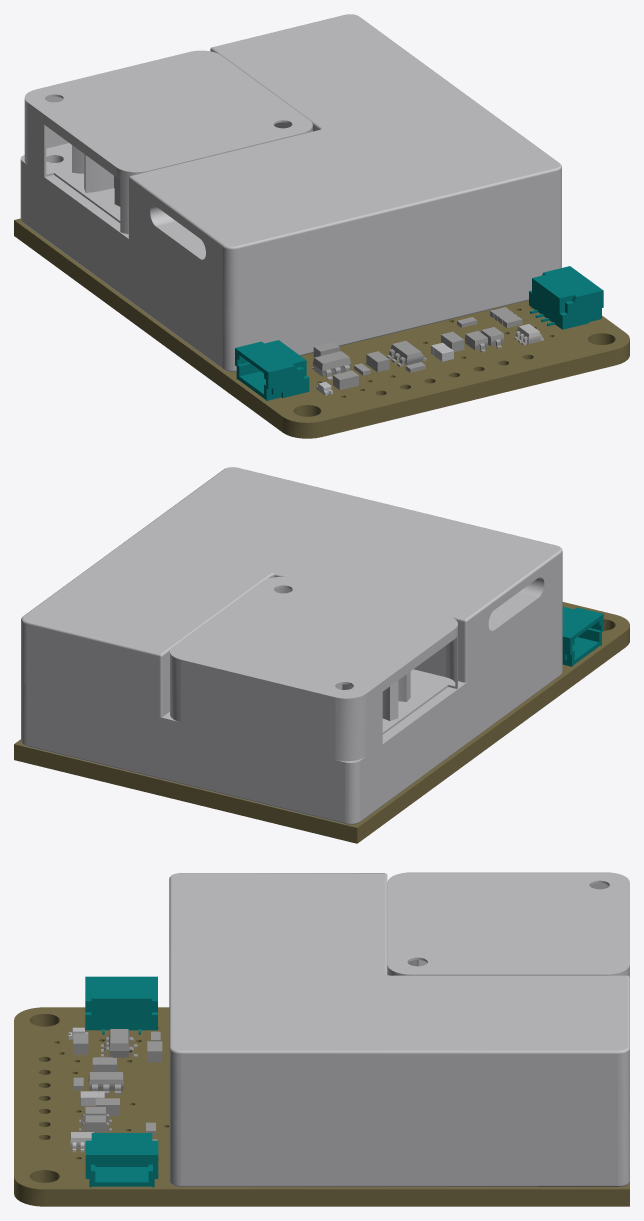
The model's file is ada-4632.glb.
3 views of the same model, one above another, from view 1: azimuth 30°, elevation 25°; view 2: azimuth 150°, elevation 25°; view 3: azimuth 270°, elevation 25° (orthographic). The views are drawn at different scales.
Parts seen in each view (by area): view 1: 0.5833333333333334_0.5833333333333334_0.5833333333333334_0.8, 0.16666666666666666_0.16666666666666666_0.08333333333333333_, 0_0.25_0.25_0, 0.3333333333333333_0.3333333333333333_0.3333333333333333_0; view 2: 0.5833333333333334_0.5833333333333334_0.5833333333333334_0.8, 0.16666666666666666_0.16666666666666666_0.08333333333333333_, 0_0.25_0.25_0; view 3: 0.5833333333333334_0.5833333333333334_0.5833333333333334_0.8, 0.16666666666666666_0.16666666666666666_0.08333333333333333_, 0_0.25_0.25_0, 0.3333333333333333_0.3333333333333333_0.3333333333333333_0.
Part boxes in pixels (x1=…): 0.5833333333333334_0.5833333333333334_0.5833333333333334_0.8: x1=20, y1=14, x2=561, y2=395; 0.16666666666666666_0.16666666666666666_0.08333333333333333_: x1=14, y1=218, x2=629, y2=438; 0_0.25_0.25_0: x1=235, y1=266, x2=603, y2=400; 0.3333333333333333_0.3333333333333333_0.3333333333333333_0: x1=312, y1=307, x2=522, y2=389; 0.5833333333333334_0.5833333333333334_0.5833333333333334_0.8: x1=21, y1=467, x2=562, y2=824; 0.16666666666666666_0.16666666666666666_0.08333333333333333_: x1=14, y1=602, x2=629, y2=843; 0_0.25_0.25_0: x1=562, y1=606, x2=603, y2=666; 0.5833333333333334_0.5833333333333334_0.5833333333333334_0.8: x1=68, y1=872, x2=629, y2=1186; 0.16666666666666666_0.16666666666666666_0.08333333333333333_: x1=14, y1=1007, x2=629, y2=1206; 0_0.25_0.25_0: x1=85, y1=976, x2=158, y2=1187; 0.3333333333333333_0.3333333333333333_0.3333333333333333_0: x1=73, y1=1029, x2=162, y2=1140.
Bounding box in the file's own units: 3.56 × 1.4 × 5.08.
